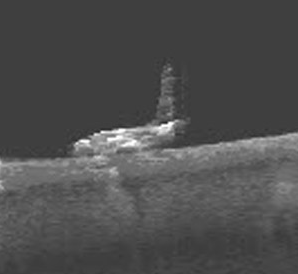plane: (66, 61, 192, 155)
